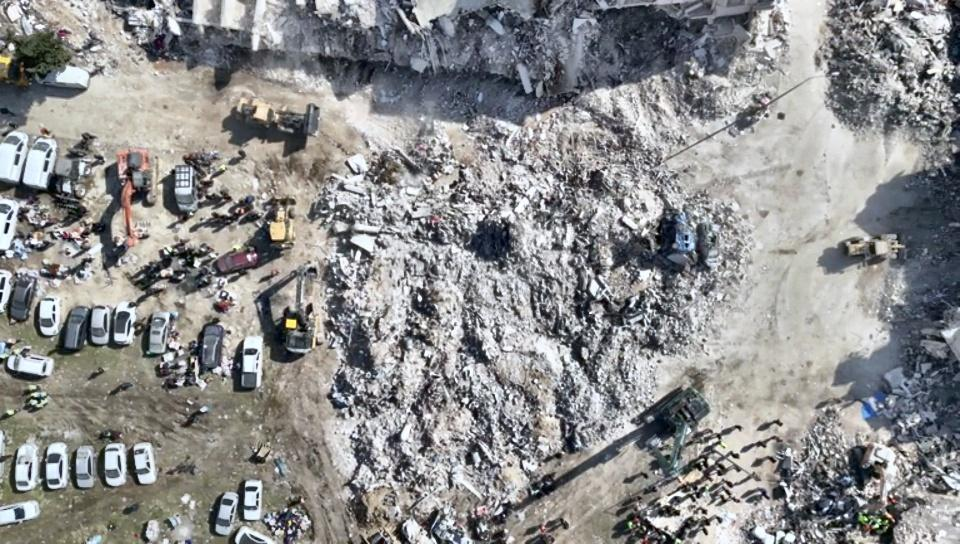kapali: (312, 66, 769, 216)
